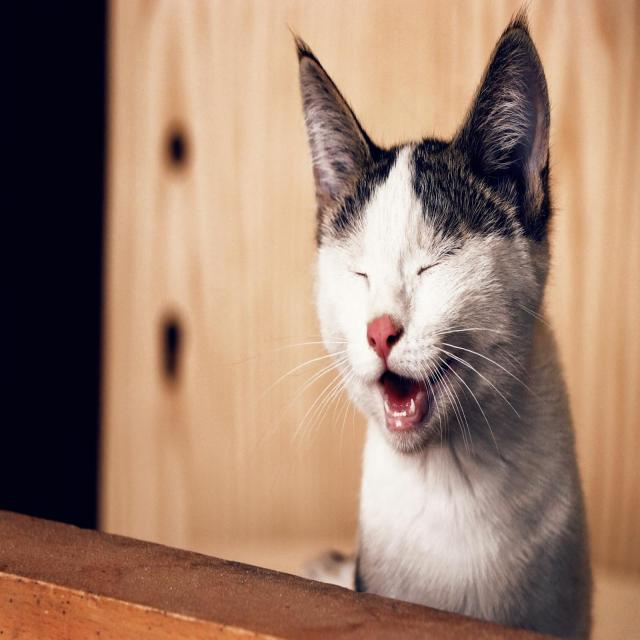Cat: (253, 1, 595, 638)
